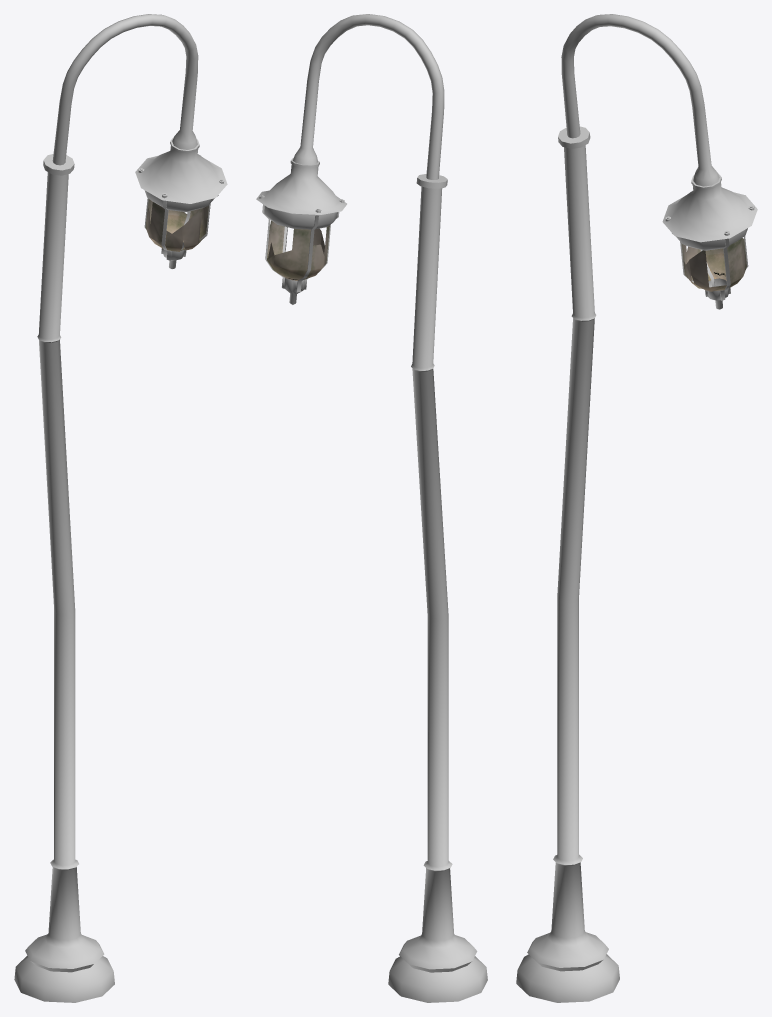
File: StreetLamp1.fbx
3 renders of one model, left to right at view 1: azimuth 30°, elevation 25°; view 2: azimuth 150°, elevation 25°; view 3: azimuth 330°, elevation 25°, orthographic. The views are drawn at different scales.
Visible parts, largest first — view 1: StreetLamp_1, StreetLamp_glas; view 2: StreetLamp_1, StreetLamp_glas; view 3: StreetLamp_1, StreetLamp_glas.
Boxes of the visible parts, x1,y1,x2,y2 form: StreetLamp_1: [14, 14, 227, 1002]; StreetLamp_glas: [145, 199, 208, 251]; StreetLamp_1: [256, 14, 487, 1002]; StreetLamp_glas: [267, 220, 329, 280]; StreetLamp_1: [516, 14, 757, 1002]; StreetLamp_glas: [681, 238, 746, 291].
Bounding box in the file's own units: 102 × 441 × 47.18.
